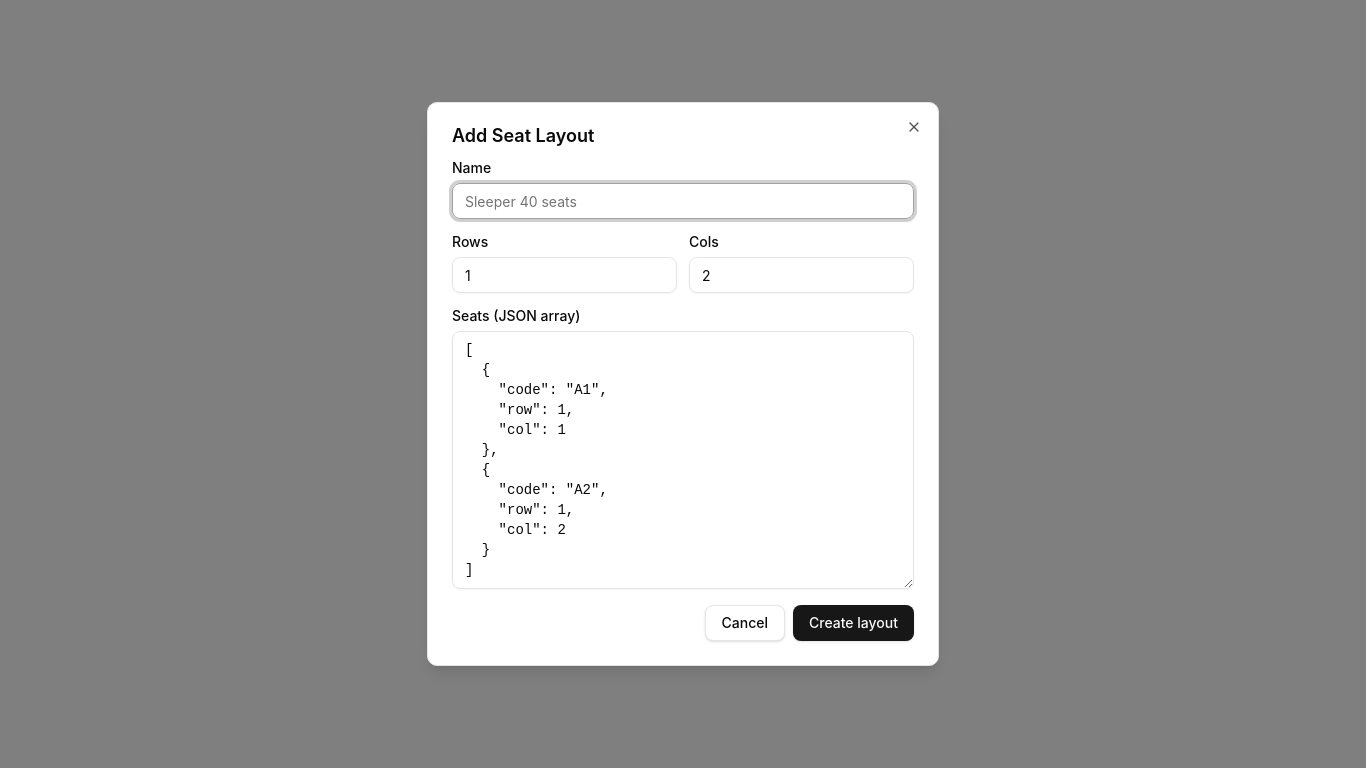
Scenario: SeatLayoutFormDialog › shows validation error on empty name submit
The width and height of the screenshot is (1366, 768).
Click the button "Create layout".
click(854, 623)  # box [793, 605, 914, 641]
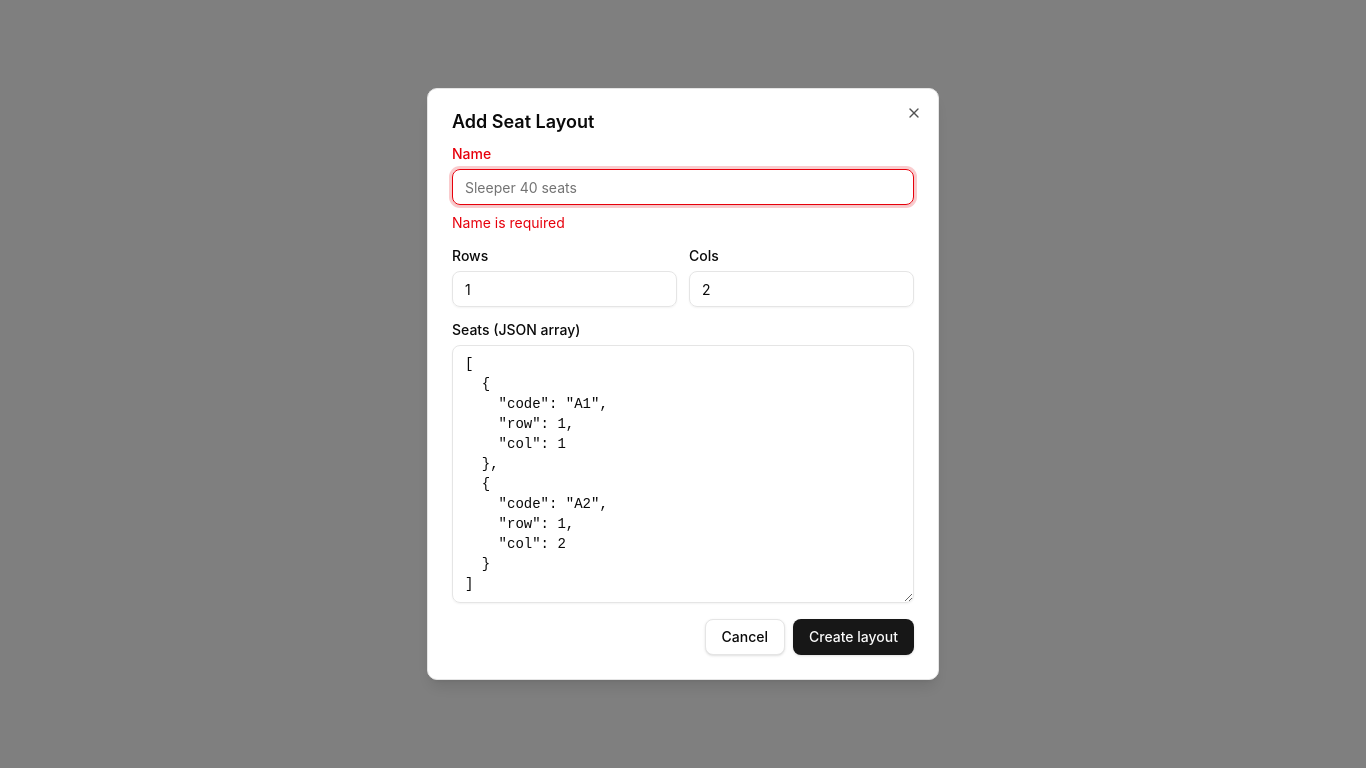
Result: the text "Name is required" is shown at [452, 214, 565, 231]
